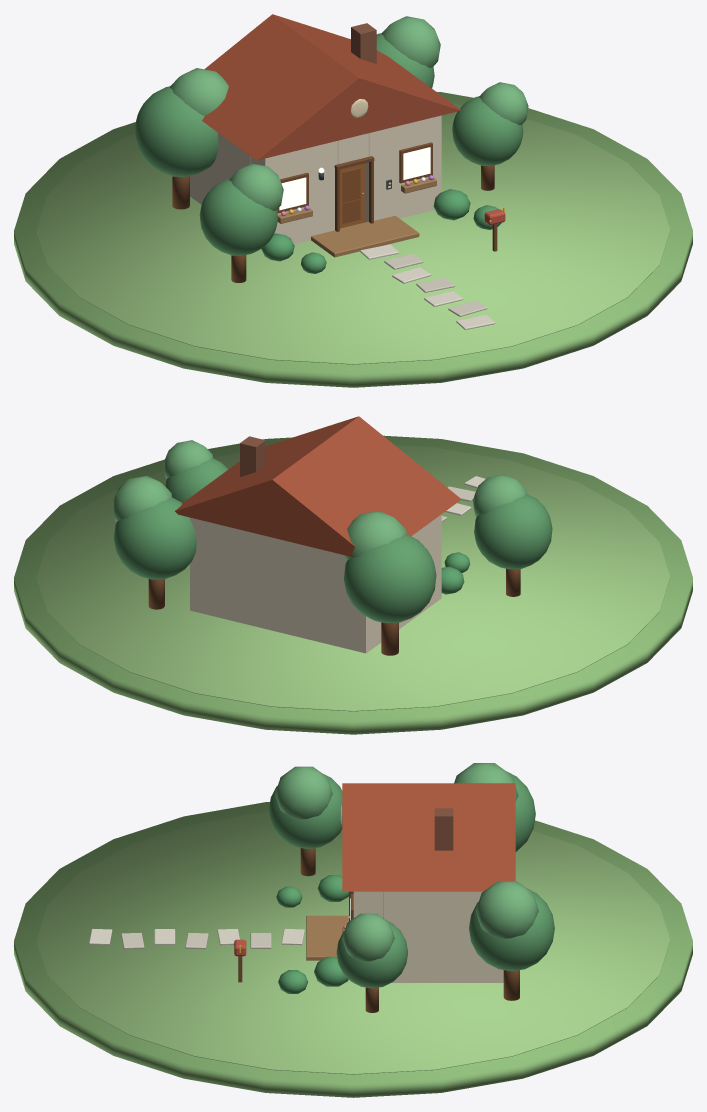
File: cabin_exterior.glb
The picture shows the model from 3 angles, top to bottom: view 1: azimuth 30°, elevation 25°; view 2: azimuth 150°, elevation 25°; view 3: azimuth 270°, elevation 25°; orthographic projection.
Visible parts, largest first — view 1: lawn, ground-disc, roof, house_walls, crown.004, crown, crown.002, porch, crown.007, crown.005, crown.001, crown.003 (+10 smaller); view 2: lawn, ground-disc, roof, house_walls, crown.004, crown.006, crown, crown.005, crown.007, crown.001, crown.002, crown.003 (+4 smaller); view 3: lawn, ground-disc, roof, house_walls, crown.006, crown.007, crown, crown.001, crown.002, crown.003, porch, crown.004 (+5 smaller).
Part boxes in pixels (x1,y1,x2,y2): lawn: (36,103,670,364); ground-disc: (14,91,692,387); roof: (202,14,461,160); house_walls: (190,115,441,244); crown.004: (134,86,218,176); crown: (199,179,277,255); crown.002: (452,96,523,165); porch: (311,215,419,257); crown.007: (381,16,440,67); crown.005: (170,68,228,115); crown.001: (229,163,283,210); crown.003: (479,82,528,125); lawn: (36,445,670,711); ground-disc: (14,435,692,734); roof: (175,416,461,557); house_walls: (190,514,441,653); crown.004: (344,534,436,623); crown.006: (114,497,196,579); crown: (474,494,552,569); crown.005: (344,510,406,560); crown.007: (112,475,171,522); crown.001: (472,474,527,516); crown.002: (165,458,228,502); crown.003: (163,440,212,478); lawn: (36,811,670,1074); ground-disc: (14,802,692,1097); roof: (342,783,515,891); house_walls: (353,891,503,982); crown.006: (469,888,554,971); crown.007: (475,881,538,938); crown: (269,774,342,849); crown.001: (275,766,332,819); crown.002: (336,920,407,988); crown.003: (342,913,394,961); porch: (306,915,348,960); crown.004: (506,771,535,851).
Bounding box in the file's own units: 18 × 5 × 18.
